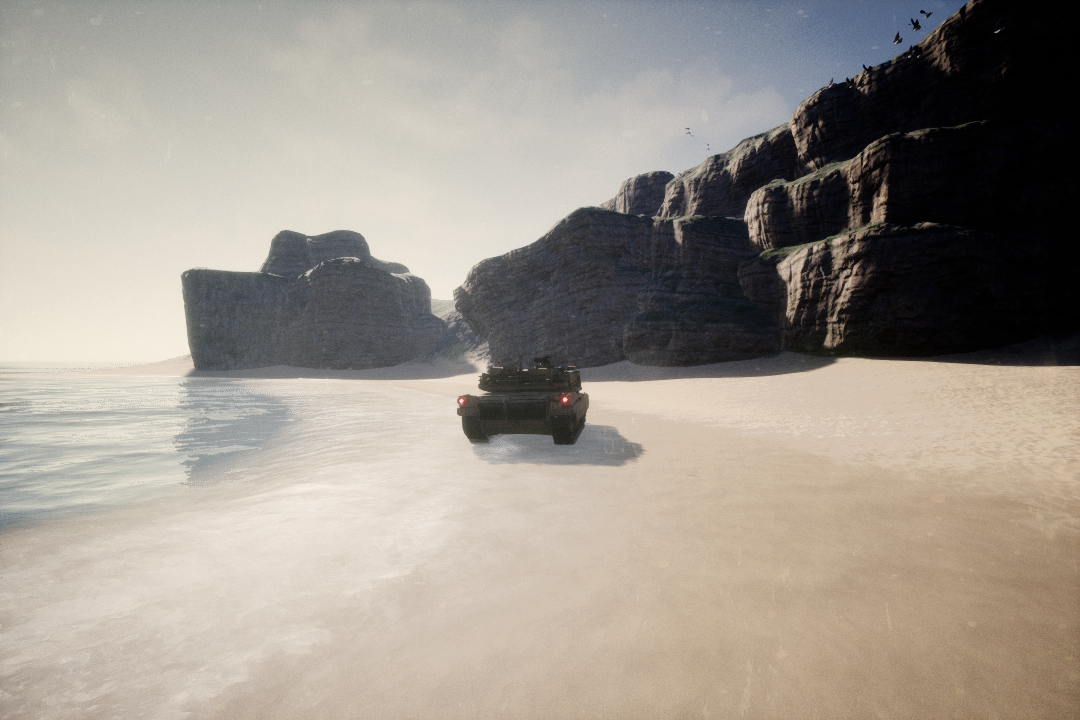tank: (453, 362, 598, 453)
